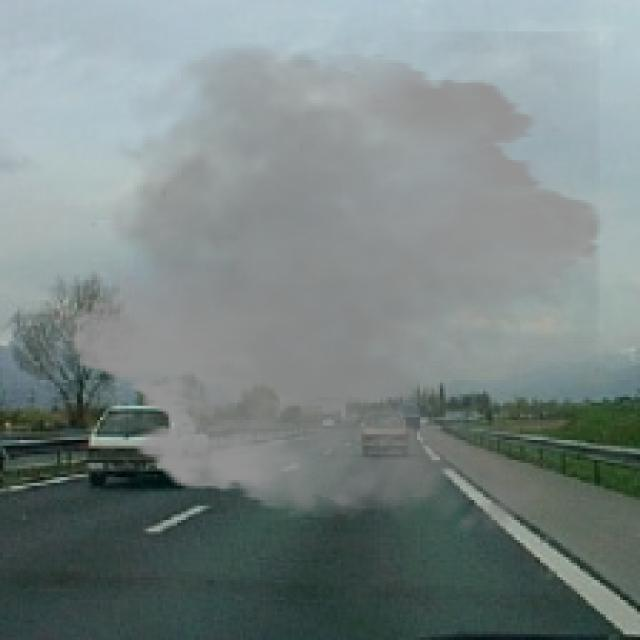smoke: (51, 31, 620, 552)
